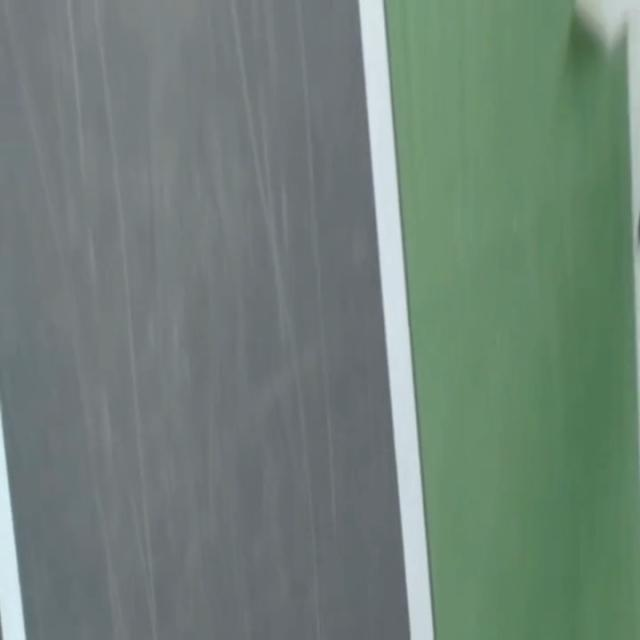right: (358, 0, 434, 639)
